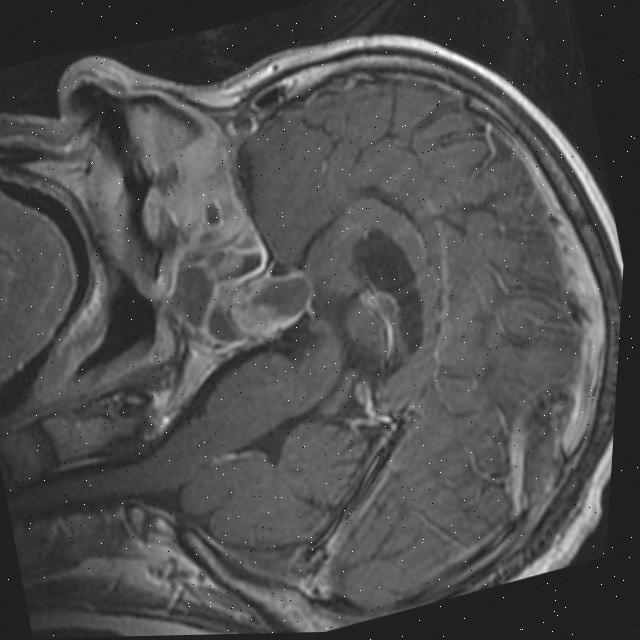Pituitary: (223, 263, 324, 344)
